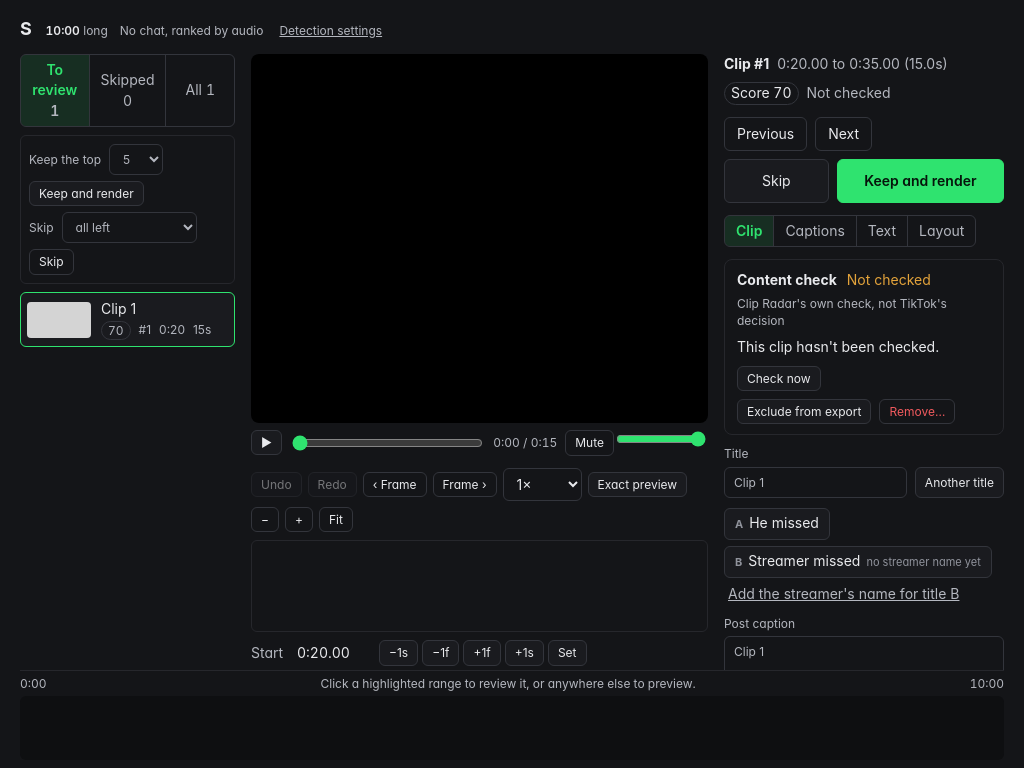
Review › title B with the streamer's name: set the name, then pick it
The image size is (1024, 768).
Click the button with test id "rv-streamer" at {"x": 844, "y": 594}, box [724,584,964,604]
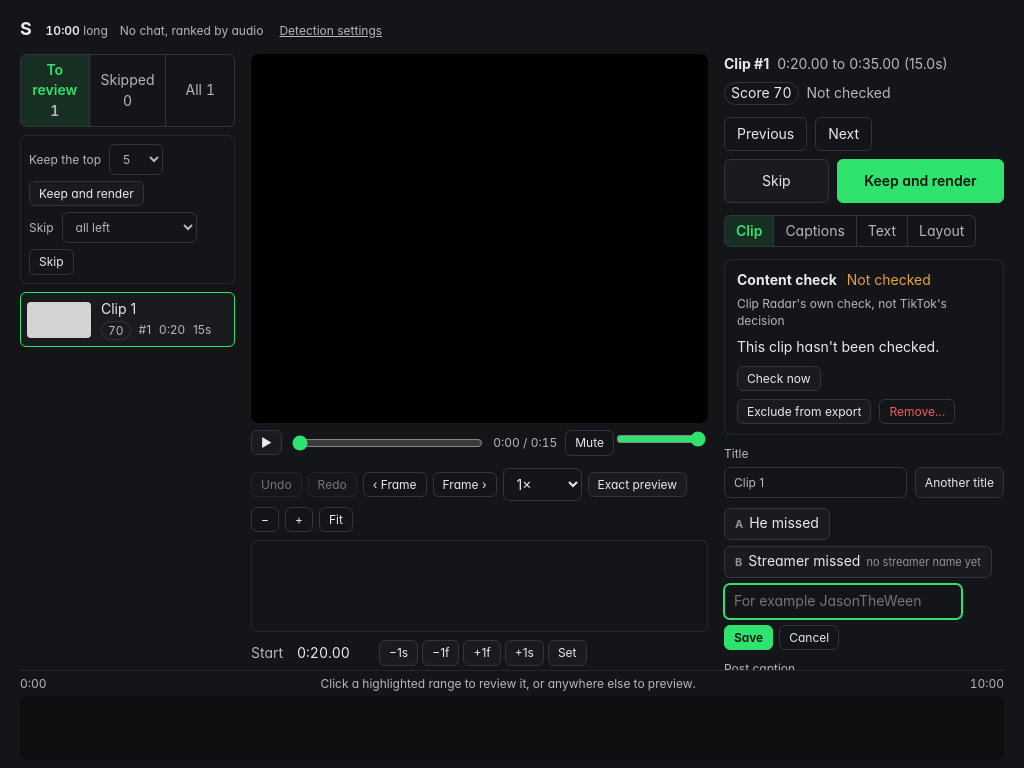
Type " Jason " into the field with test id "rv-streamer-input" at {"x": 843, "y": 601}, box [724,584,962,618]
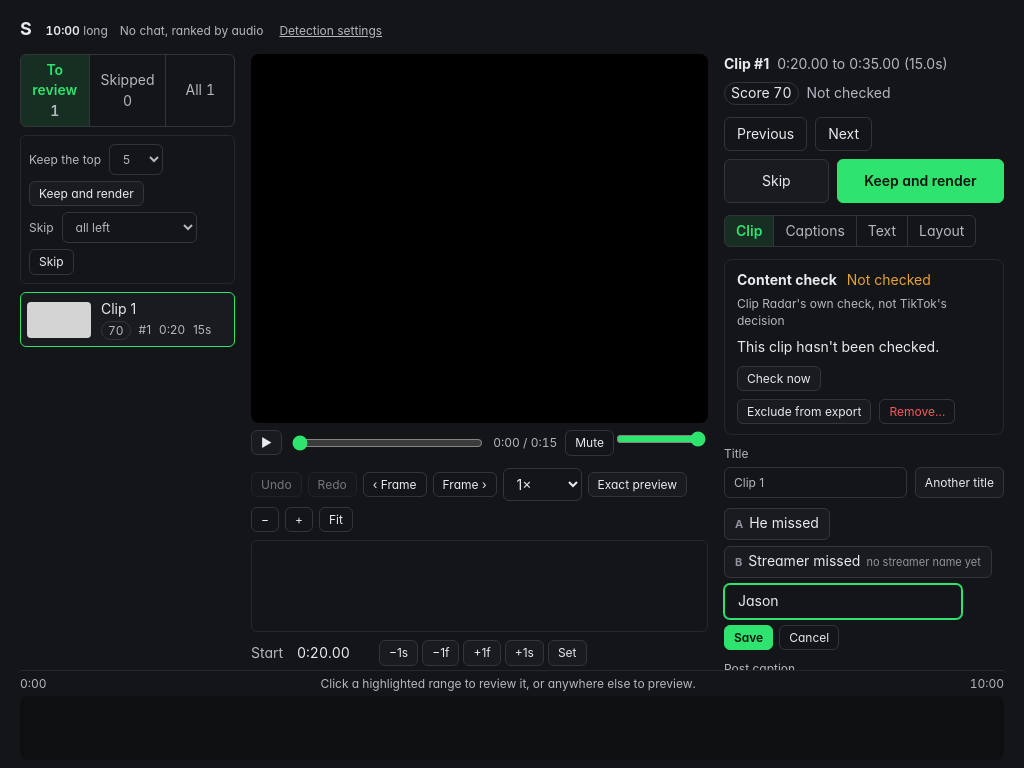
Click the button "Save" at {"x": 749, "y": 637}, box [724,624,773,650]
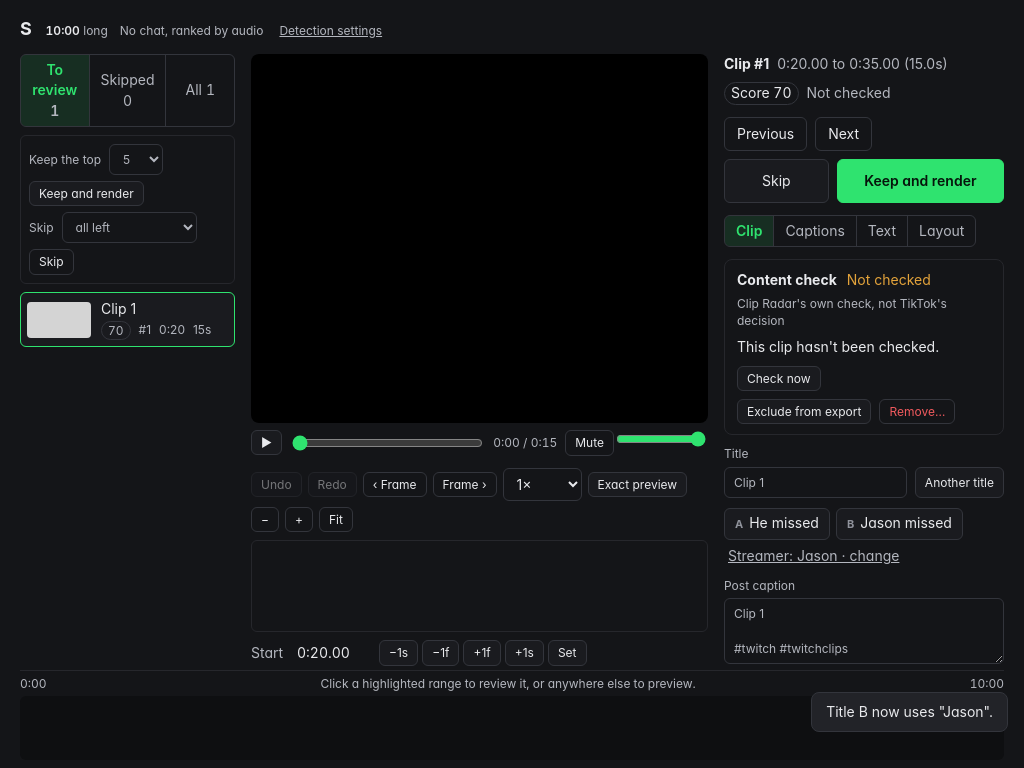
Result: the button with test id "rv-streamer" reads "Streamer: Jason · change" at [724,546,903,566]
Click the button "B Jason missed" at {"x": 899, "y": 524}, box [836,508,963,540]
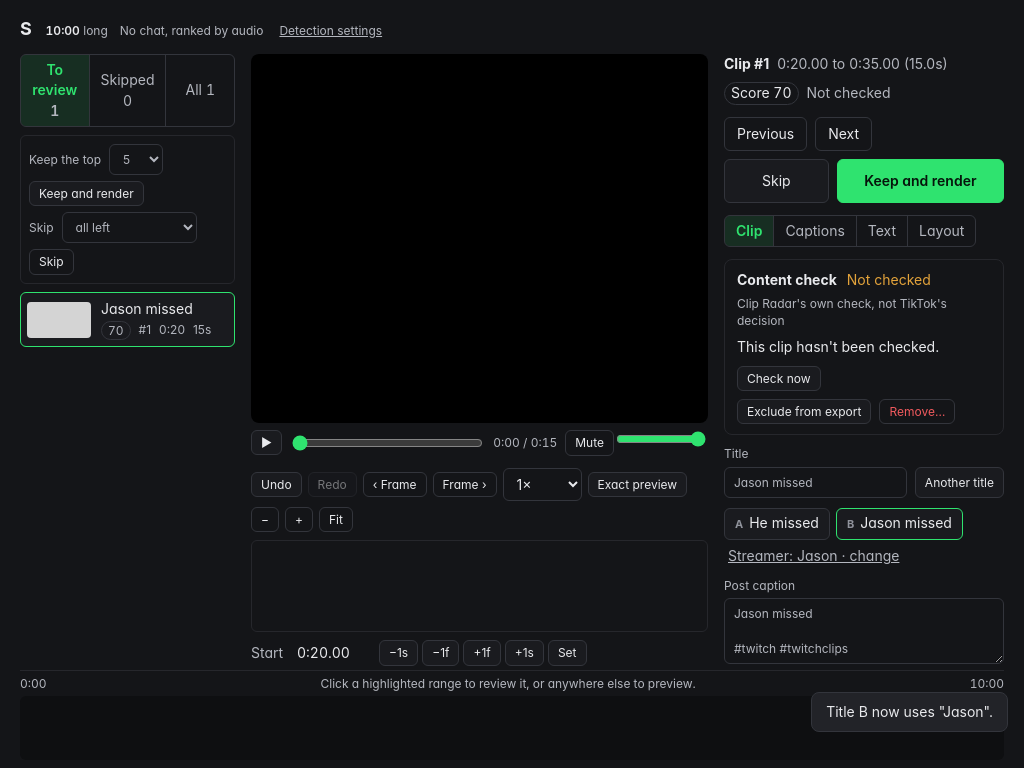
Result: the field with test id "rv-title-input" holds "Jason missed" at [724,467,907,498]
